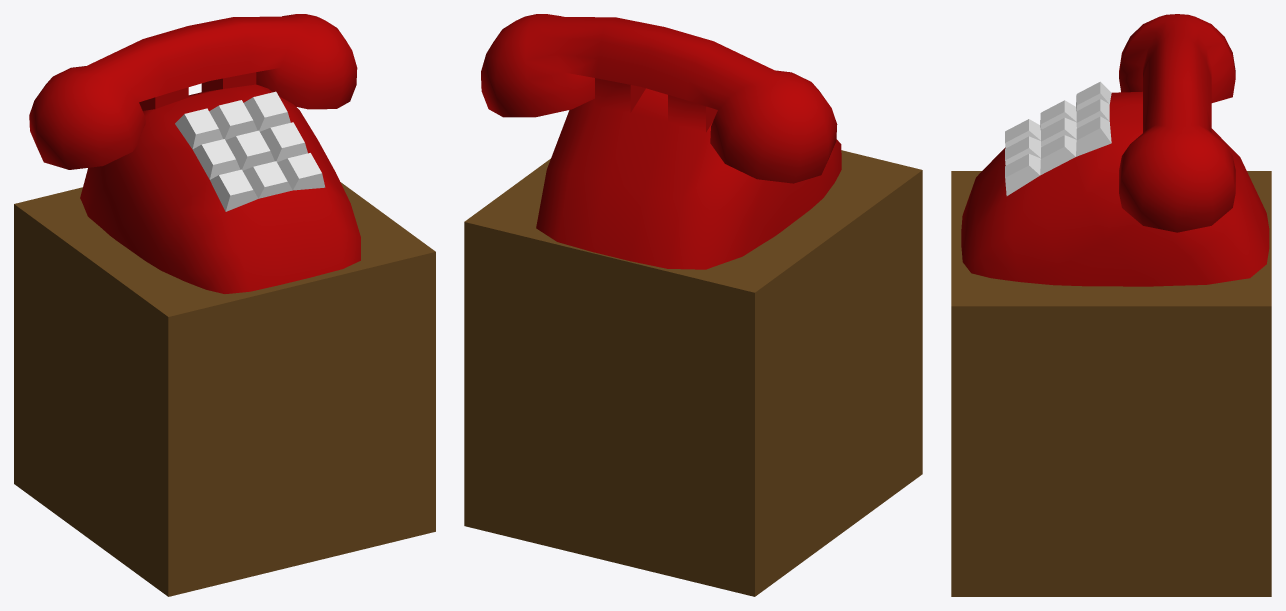
Rendered from Phone.fbx.
3 renders of one model, left to right at view 1: azimuth 30°, elevation 25°; view 2: azimuth 150°, elevation 25°; view 3: azimuth 270°, elevation 25°, orthographic. The views are drawn at different scales.
Parts seen in each view (by area): view 1: cube, cube1, sphere1; view 2: cube, cube1, sphere1; view 3: cube, cube1, sphere1.
Part boxes in pixels (box(x1,y1,x2,y2)): cube: box(14, 182, 435, 596); cube1: box(80, 72, 360, 293); sphere1: box(29, 14, 357, 169); cube: box(464, 150, 922, 596); cube1: box(536, 78, 841, 269); sphere1: box(481, 14, 837, 183); cube: box(951, 171, 1271, 596); cube1: box(961, 81, 1269, 286); sphere1: box(1119, 14, 1235, 232).
Bounding box in the file's own units: 0.8465 × 1.17 × 0.7233.
